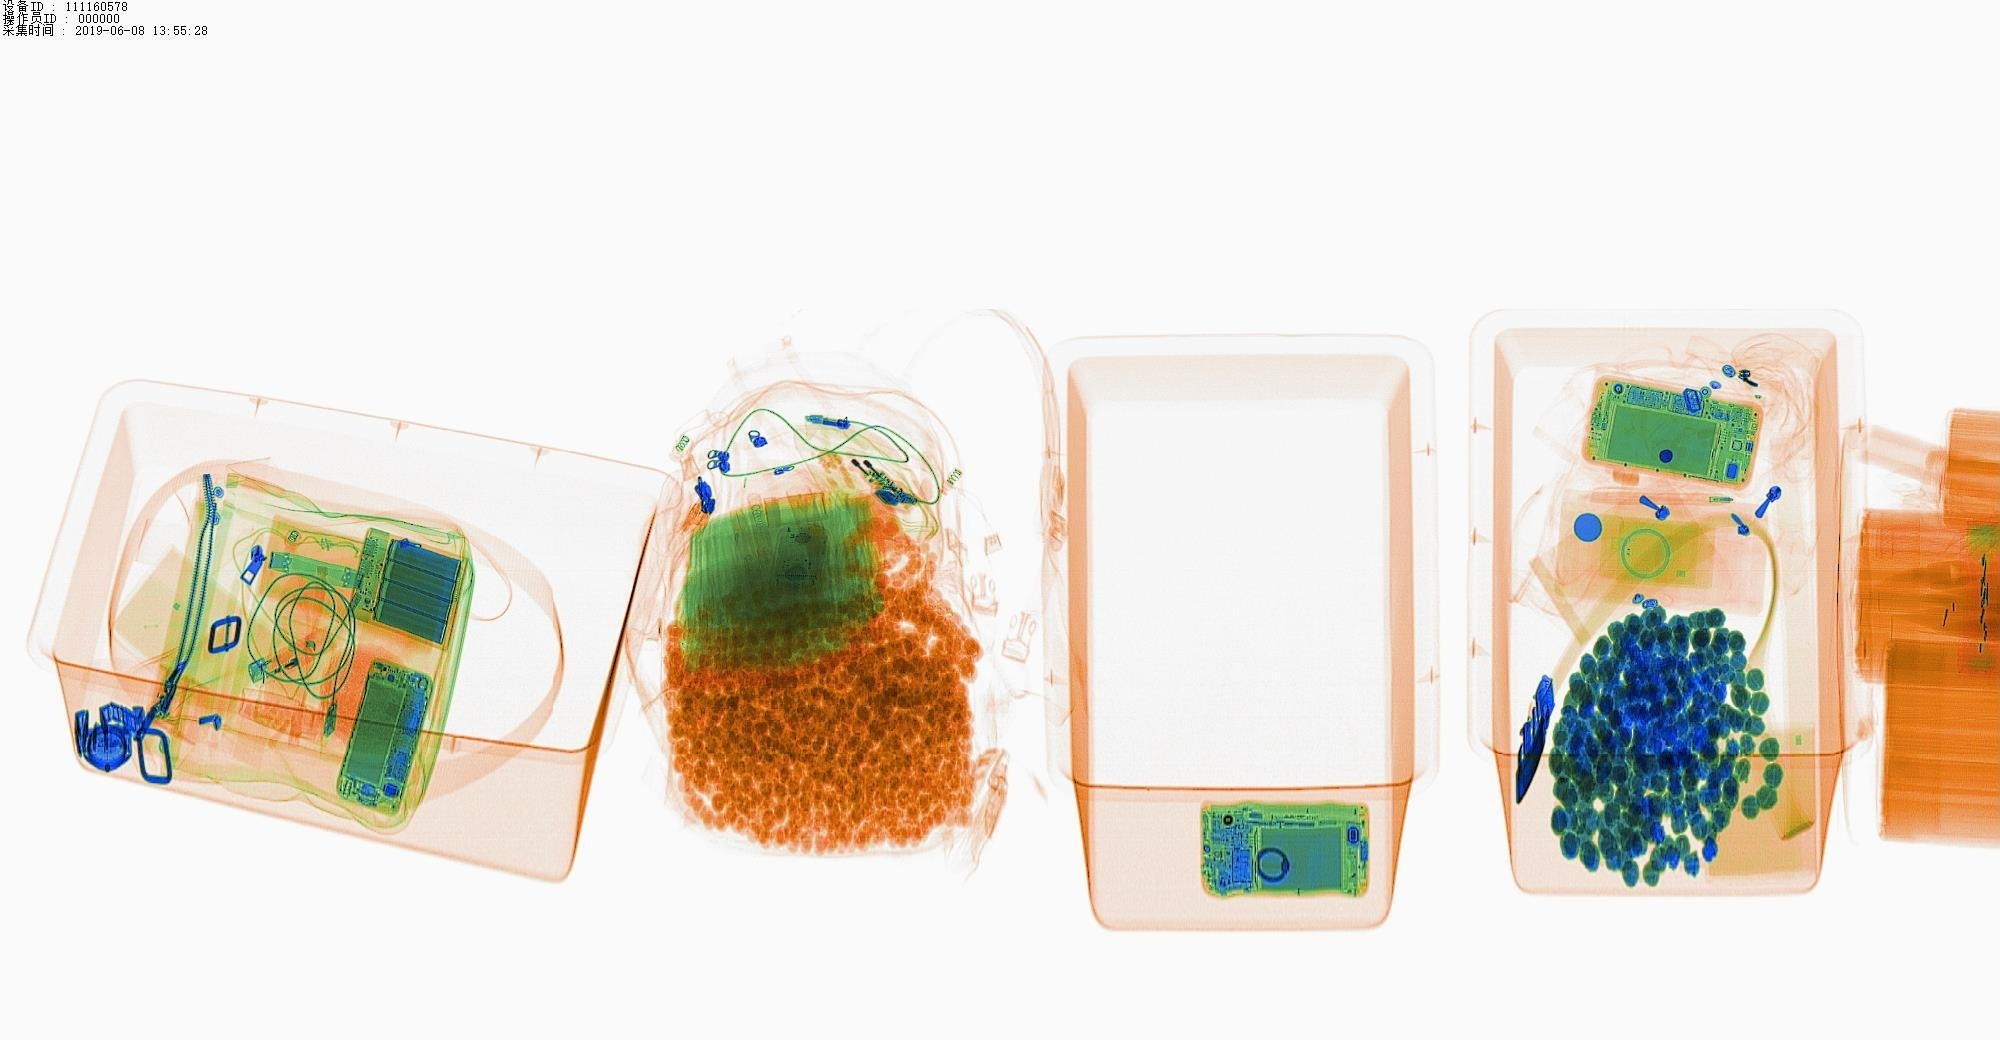NonmetallicFire: (246, 617, 358, 689)
